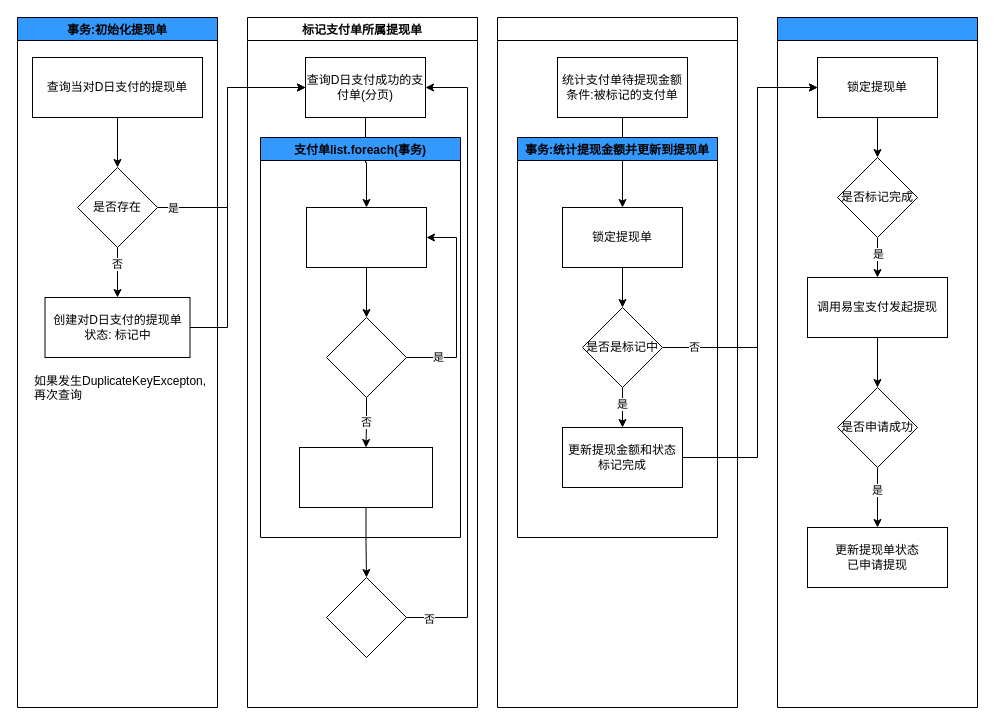
This 995x725 diagram has some shape labels left out. Each missing label, with the centre of its shape:
事务:执行提现申请: (877,362)
是否标记结束: (366,617)
是否被标记: (366,357)
标记提现单ID到支付单: (365,477)
统计提现金额: (617,362)
锁定支付单: (366,237)
